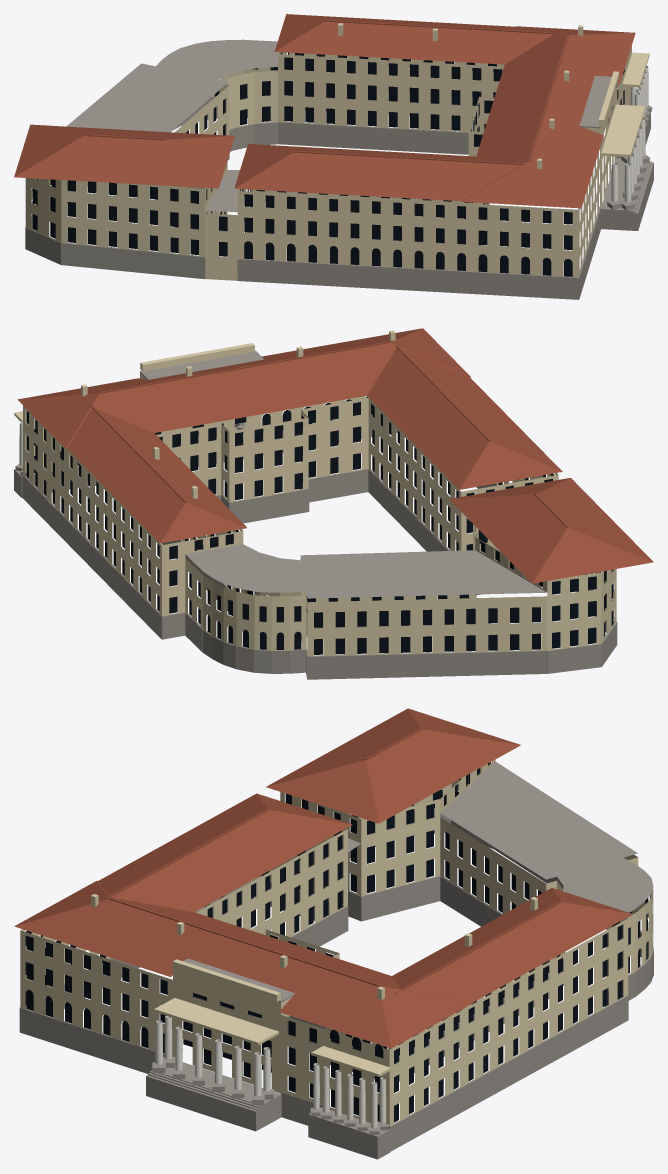
The model's file is hotel_sevastopol.lod.glb.
The picture shows the model from 3 angles, top to bottom: view 1: azimuth 30°, elevation 25°; view 2: azimuth 150°, elevation 25°; view 3: azimuth 270°, elevation 25°; orthographic projection. The views are drawn at different scales.
Parts seen in each view (by area): view 1: hotel_sevastopol_wall, hotel_sevastopol_roof, hotel_sevastopol_stone, hotel_sevastopol_glass, hotel_sevastopol_trim_s; view 2: hotel_sevastopol_roof, hotel_sevastopol_wall, hotel_sevastopol_stone, hotel_sevastopol_glass; view 3: hotel_sevastopol_roof, hotel_sevastopol_wall, hotel_sevastopol_stone, hotel_sevastopol_glass, hotel_sevastopol_trim_s.
Part boxes in pixels (<box>): hotel_sevastopol_wall: <box>25,23,649,280</box>; hotel_sevastopol_roof: <box>14,14,635,208</box>; hotel_sevastopol_stone: <box>25,39,653,299</box>; hotel_sevastopol_glass: <box>32,52,624,276</box>; hotel_sevastopol_trim_s: <box>611,65,648,202</box>; hotel_sevastopol_roof: <box>17,328,653,583</box>; hotel_sevastopol_wall: <box>14,330,616,656</box>; hotel_sevastopol_stone: <box>14,350,617,679</box>; hotel_sevastopol_glass: <box>26,396,613,654</box>; hotel_sevastopol_roof: <box>14,708,632,1048</box>; hotel_sevastopol_wall: <box>20,759,653,1126</box>; hotel_sevastopol_stone: <box>19,761,653,1159</box>; hotel_sevastopol_glass: <box>25,762,650,1122</box>; hotel_sevastopol_trim_s: <box>155,1015,386,1128</box>.
Bounding box in the file's own units: 113 × 20.4 × 88.72.
